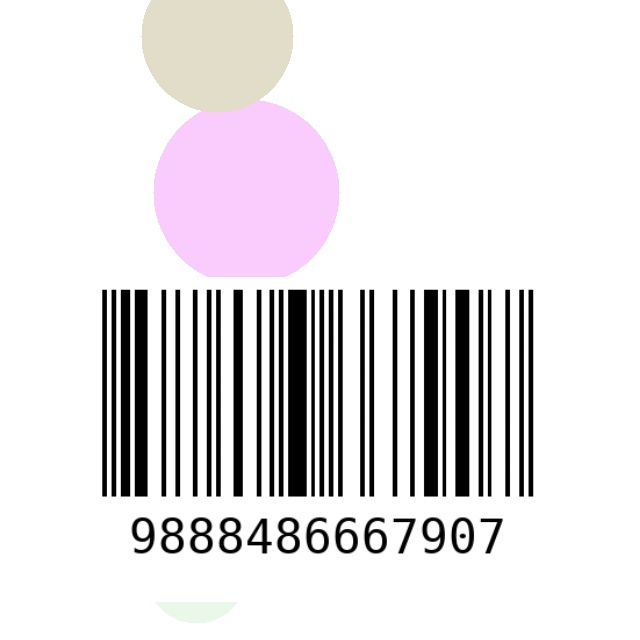barcode: (14, 277, 621, 602)
